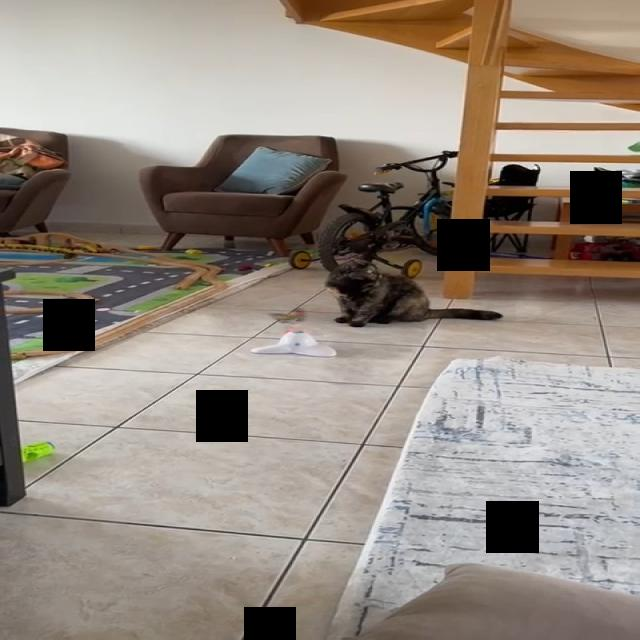authorized: (322, 258, 502, 328)
